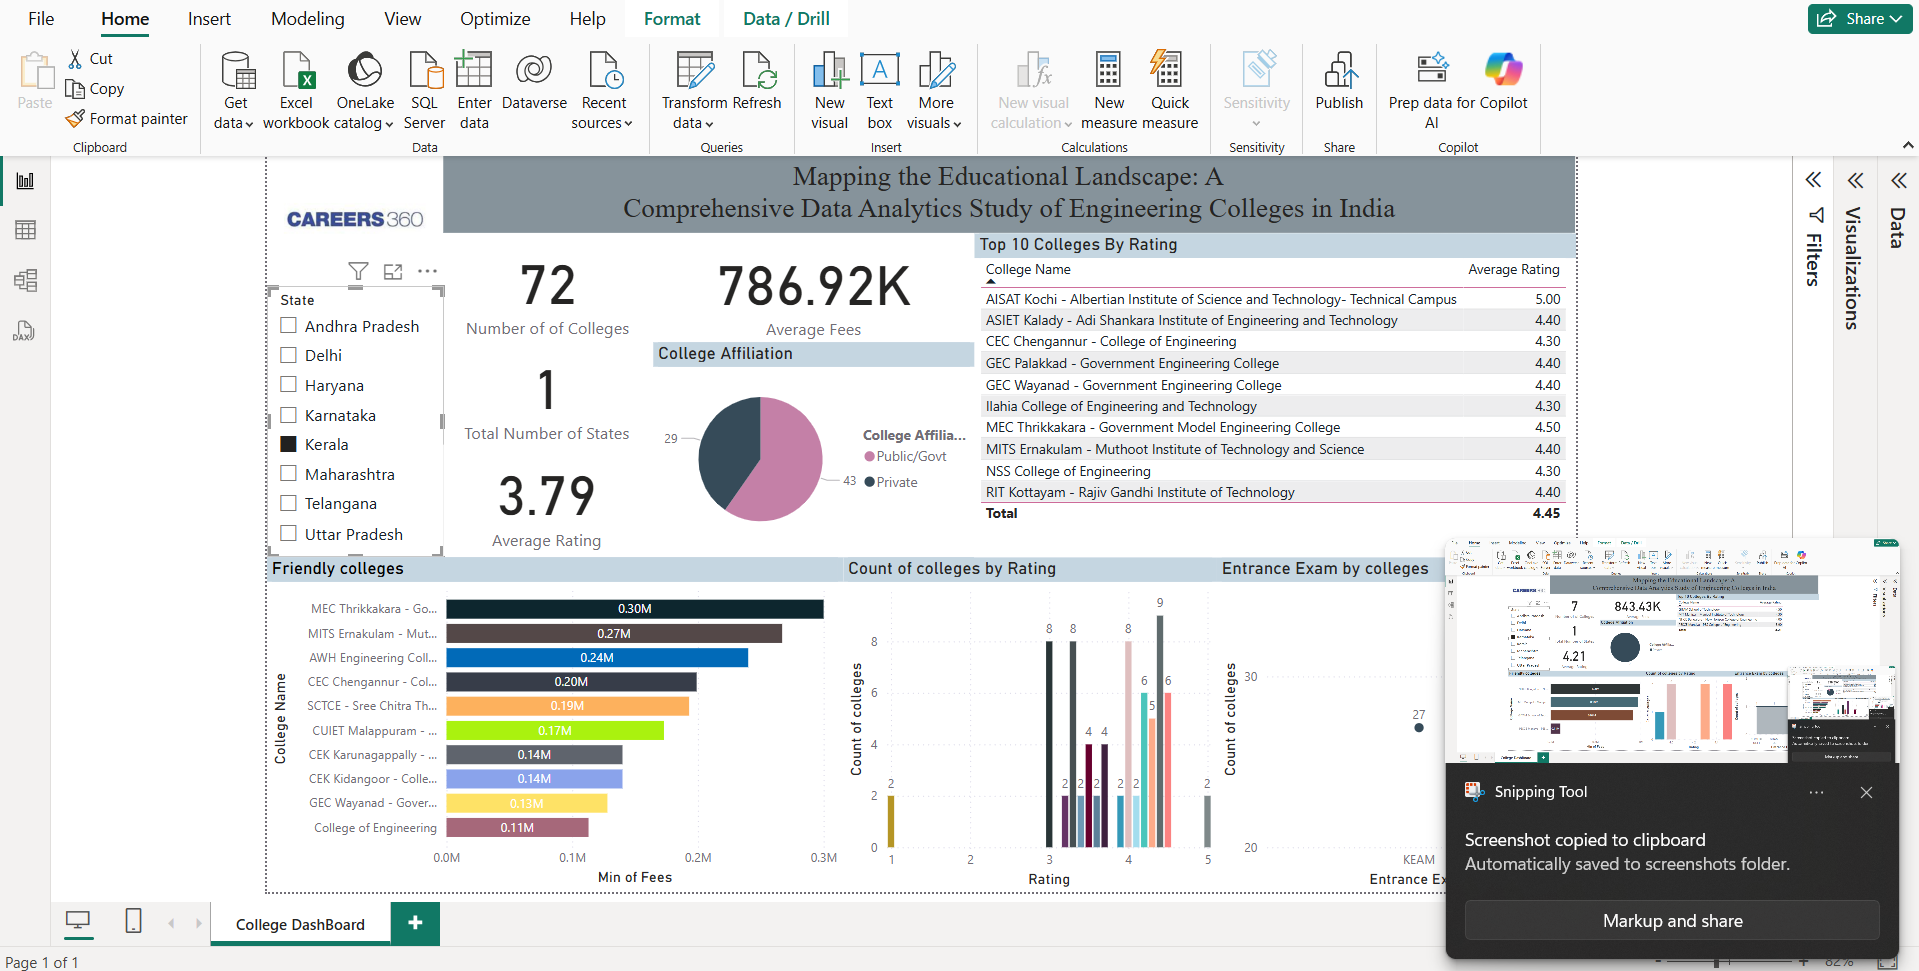

What the dashboard file says about the page in this screenshot:
{"tool":"powerbi","page":{"name":"College DashBoard","canvas":[1280,720],"ordinal":0},"visuals":[{"type":"card","fields":{"Values":["Sheet.Average_Fees"]},"box":[377.4,75.5,314.2,109.8],"z":0},{"type":"card","fields":{"Values":["College_data.Count_ccolleges"]},"box":[172.4,75.8,204.2,107.6],"z":1000},{"type":"card","fields":{"Values":["College_data.no_stares"]},"box":[172.9,182.5,203.1,100.2],"z":2000},{"type":"slicer","fields":{"Values":["College_data.State"]},"box":[0,127.6,172.9,264.8],"z":3000},{"type":"textbox","box":[172.9,0,1107.4,75.5],"z":4000},{"type":"pieChart","title":"College Affiliation","fields":{"Category":["College_data.College Affiliation"],"Y":["College_data.Number of of Colleges"]},"box":[377.4,182.5,314.2,209.9],"z":5000},{"type":"card","fields":{"Values":["College_data.Average Rating"]},"box":[172.9,282.7,203.1,108.4],"z":6000},{"type":"columnChart","title":"Count of colleges by Rating","fields":{"Category":["Sheet.Rating"],"Y":["CountNonNull(Sheet.College Name)"],"Series":["Sheet.Rating"]},"box":[563.7,392.5,365.6,327.7],"z":7000},{"type":"barChart","title":"Friendly colleges","fields":{"Category":["College_data.College Name"],"Series":["College_data.College Name"],"Y":["Min(College_data.Fees)"]},"box":[0,392.5,563.7,326.5],"z":8000},{"type":"stackedAreaChart","title":"Entrance Exam by colleges","fields":{"Category":["Sheet.Entrance Exam"],"Y":["Count(College_data.College Name)"]},"box":[929.4,392.5,351,327.7],"z":9000},{"type":"image","box":[0,0,172.4,122.3],"z":10000},{"type":"tableEx","title":"Top 10 Colleges By Rating","fields":{"Values":["College_data.College Name","College_data.Average Rating"]},"box":[691.6,75.5,588.7,317],"z":11000}]}

Visuals, with their boxes on the page's 1280x720 design canvas (x1, y1, x2, y2). These are canvas units, not pixel positions in the 1919x971 screenshot, which may show the page scaled, cropped or inside an application window:
card - Sheet.Average_Fees: [377, 76, 692, 185]
card - College_data.Count_ccolleges: [172, 76, 377, 183]
card - College_data.no_stares: [173, 182, 376, 283]
slicer - College_data.State: [0, 128, 173, 392]
textbox: [173, 0, 1280, 76]
"College Affiliation" pieChart: [377, 182, 692, 392]
card - College_data.Average Rating: [173, 283, 376, 391]
"Count of colleges by Rating" columnChart: [564, 392, 929, 720]
"Friendly colleges" barChart: [0, 392, 564, 719]
"Entrance Exam by colleges" stackedAreaChart: [929, 392, 1280, 720]
image: [0, 0, 172, 122]
"Top 10 Colleges By Rating" tableEx: [692, 76, 1280, 392]
